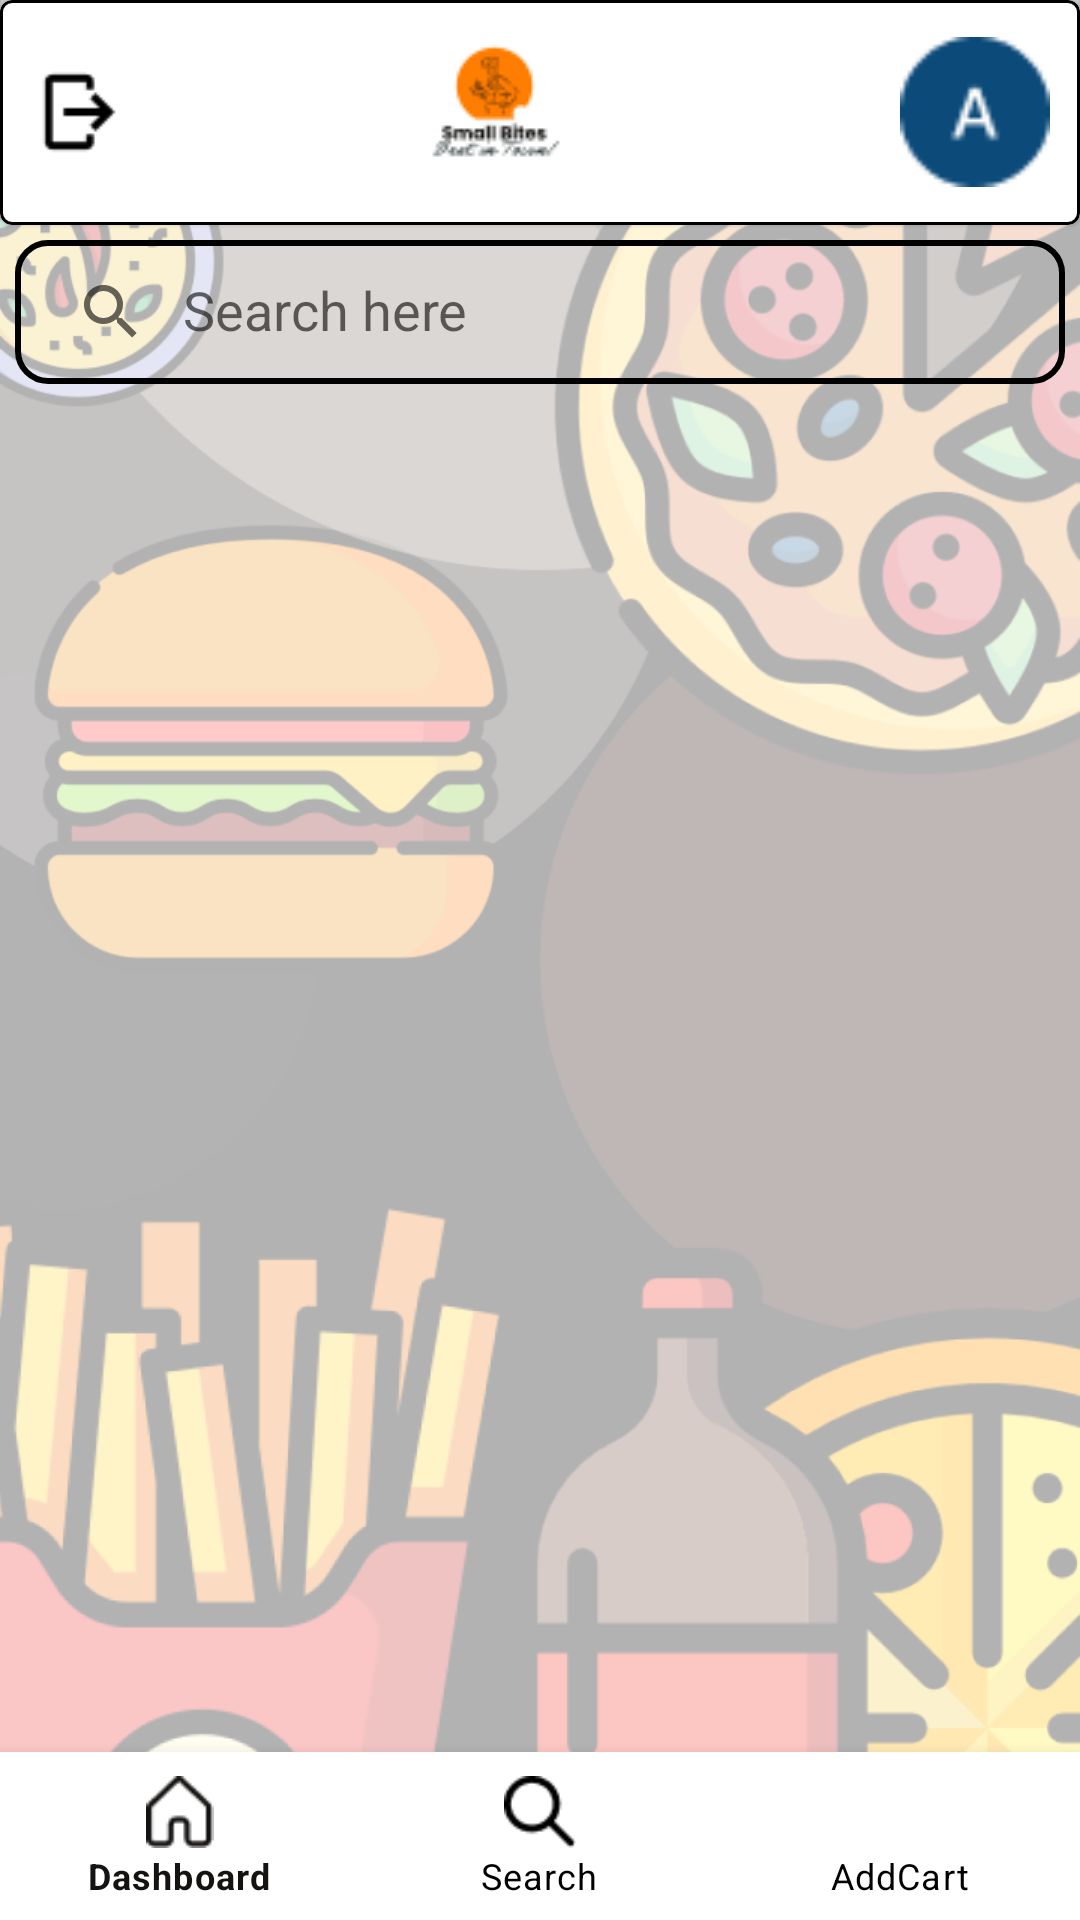

Where icons sit on this 1080w x 1920h app screen, as (x1, y1, x2, y2):
user: (900, 37, 1050, 187)
